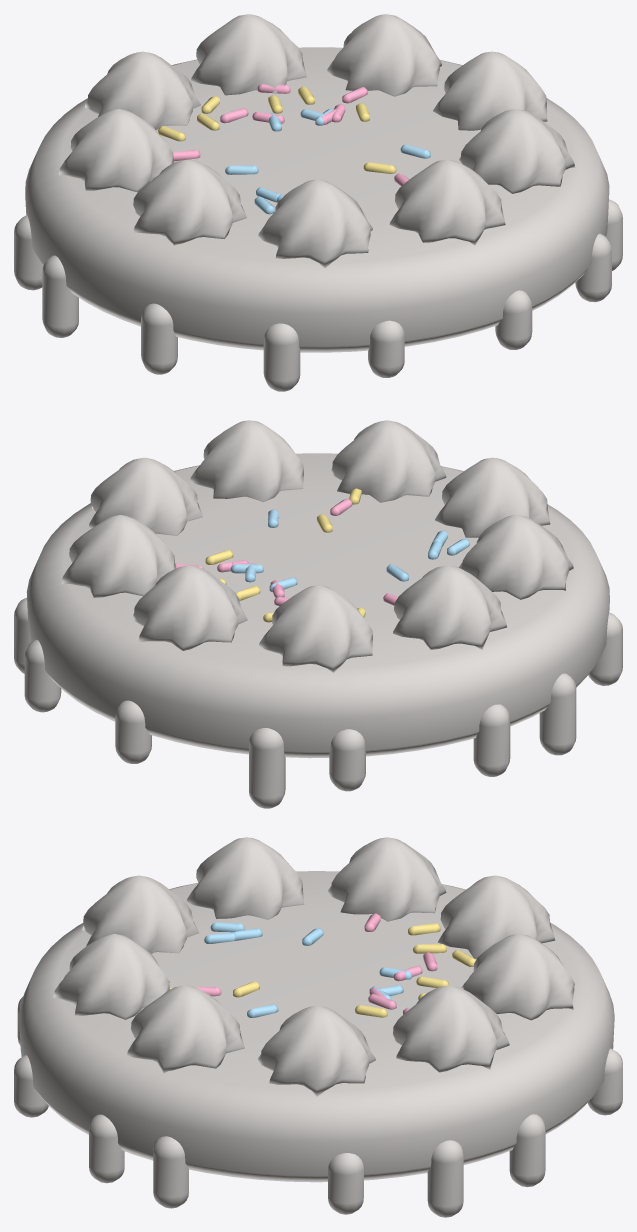
File: CakeCream.glb
3 renders of one model, top to bottom at view 1: azimuth 30°, elevation 25°; view 2: azimuth 150°, elevation 25°; view 3: azimuth 270°, elevation 25°, orthographic. The views are drawn at different scales.
Visible parts, largest first — view 1: Cream, SprinklesA, SprinklesC, SprinklesB; view 2: Cream, SprinklesB, SprinklesC, SprinklesA; view 3: Cream, SprinklesB, SprinklesC, SprinklesA.
Part boxes in pixels (x1,y1,x2,y2): Cream: [14, 14, 622, 391]; SprinklesA: [173, 84, 409, 185]; SprinklesC: [158, 86, 396, 173]; SprinklesB: [225, 108, 430, 214]; Cream: [14, 420, 622, 808]; SprinklesB: [230, 509, 469, 591]; SprinklesC: [205, 488, 365, 622]; SprinklesA: [175, 498, 397, 605]; Cream: [14, 837, 622, 1217]; SprinklesB: [204, 922, 412, 1017]; SprinklesC: [169, 923, 476, 1017]; SprinklesA: [194, 913, 463, 1014].
Size of the model in its own units: 3.63 by 1.24 by 3.56.
